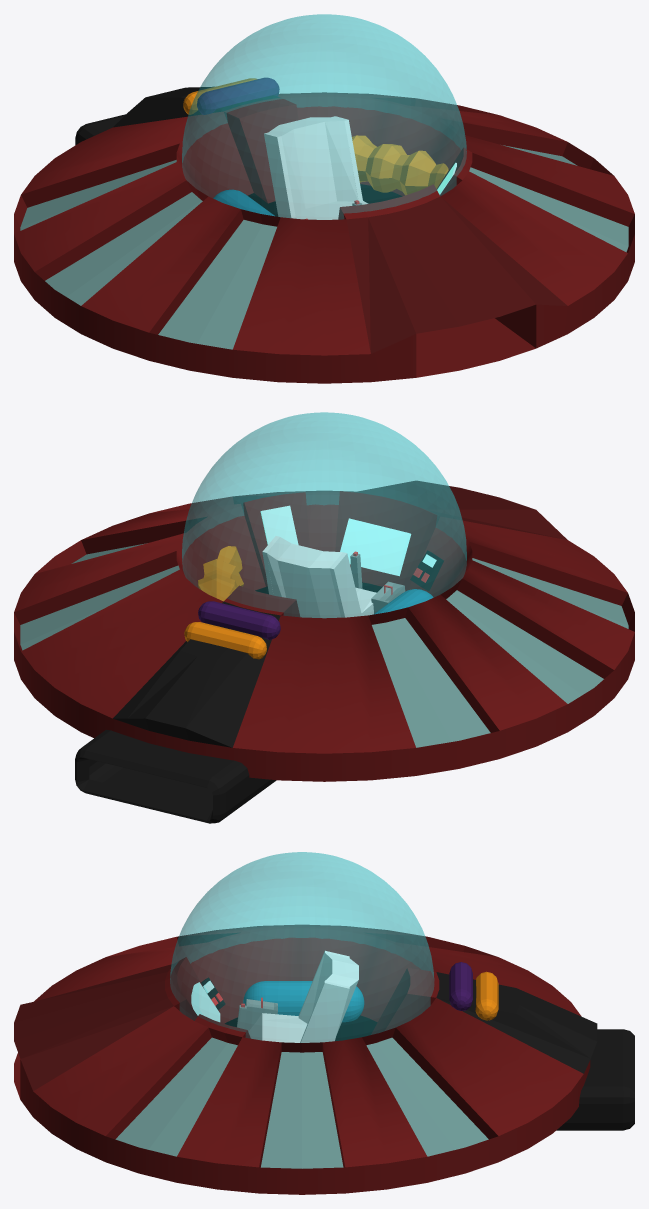
The model's file is spaceship3.FBX.
3 renders of one model, top to bottom at view 1: azimuth 30°, elevation 25°; view 2: azimuth 150°, elevation 25°; view 3: azimuth 270°, elevation 25°, orthographic. The views are drawn at different scales.
Visible parts, largest first — view 1: Cylinder001; view 2: Cylinder001; view 3: Cylinder001.
Boxes of the visible parts, x1,y1,x2,y2 form: Cylinder001: [14, 14, 634, 383]; Cylinder001: [14, 412, 634, 823]; Cylinder001: [14, 852, 634, 1194].
Bounding box in the file's own units: 140 × 67.8 × 150.
